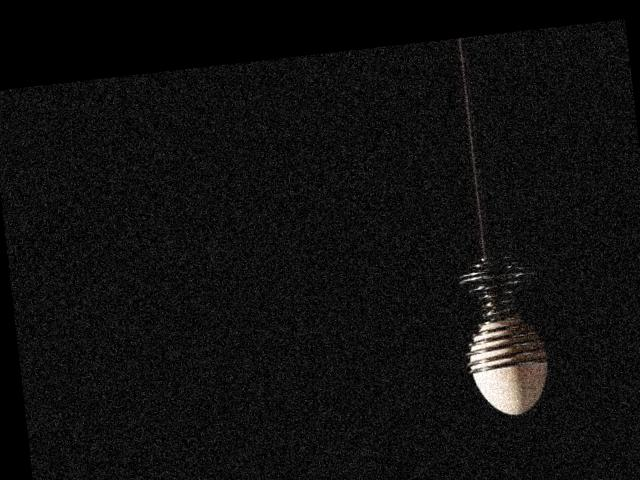egg: (465, 315, 552, 419)
